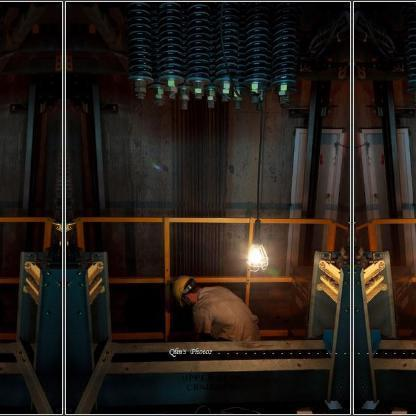helmet: (167, 269, 196, 308)
